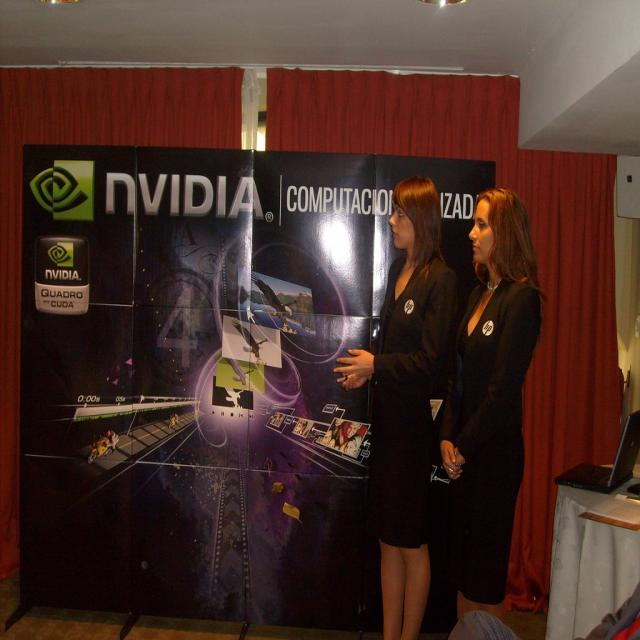nvidia: (30, 161, 95, 220), (48, 242, 76, 267)
